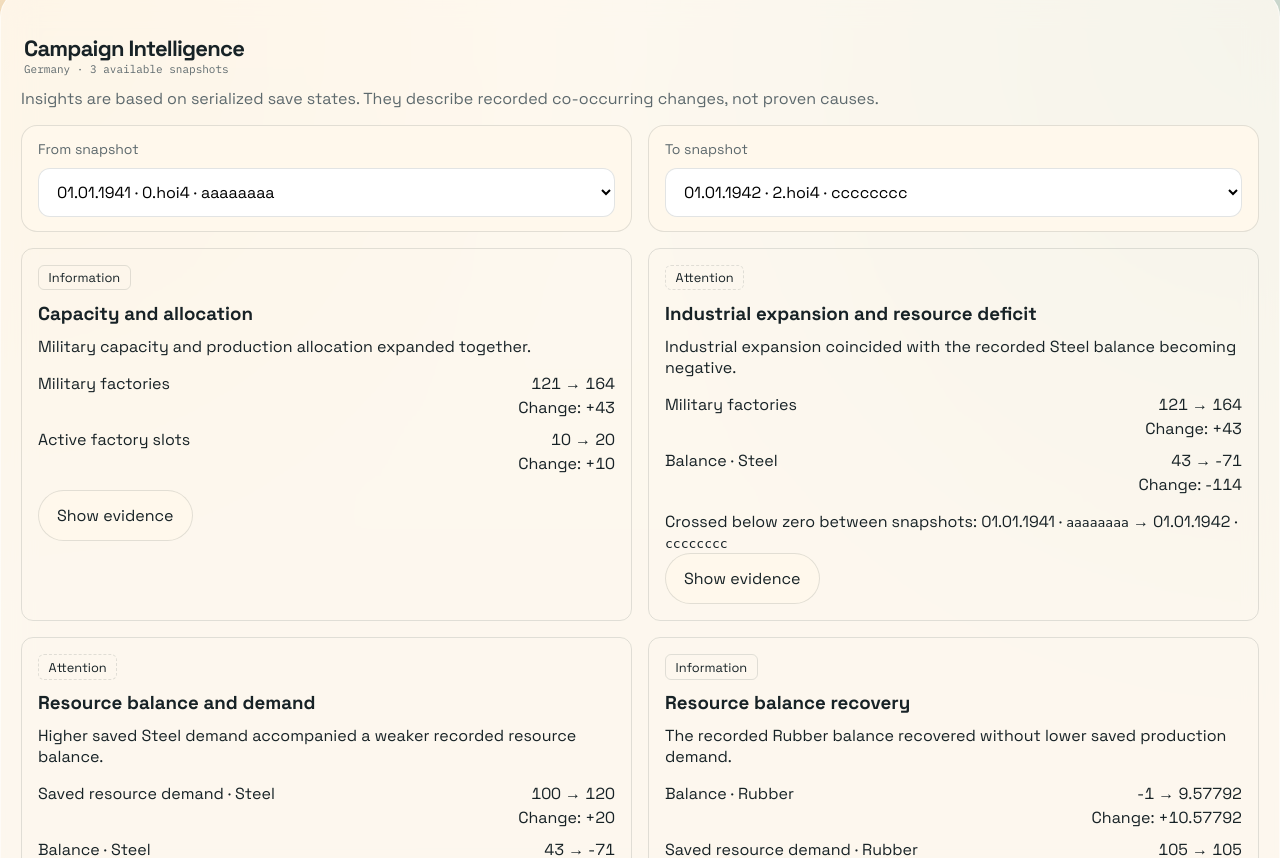
Test case: Campaign Intelligence frontend › evidence expansion is accessible and exposes exact values and source snapshots
Click the button "Show evidence" below "Capacity and allocation" at (115, 516), box [38,490,193,541]
(page scrolled)
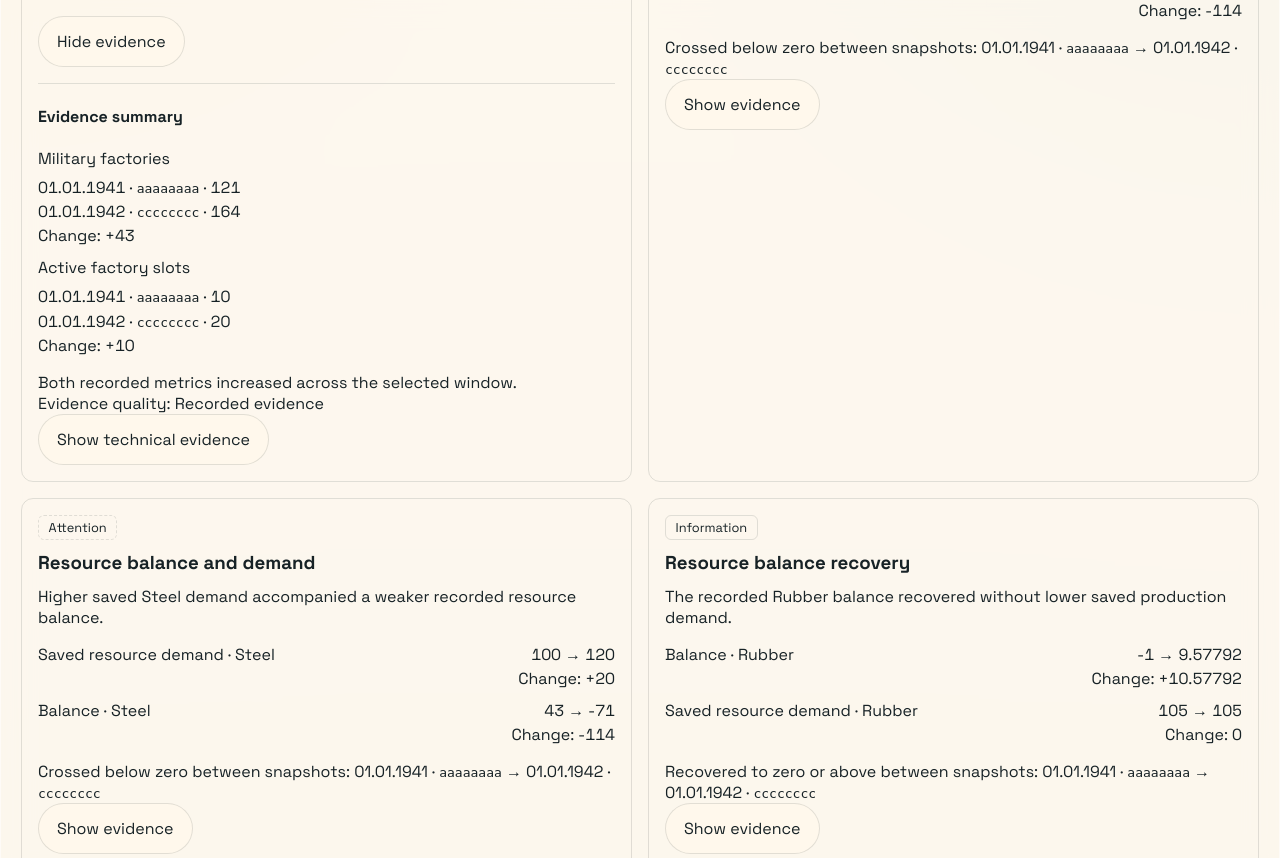
Expected: the button "Hide evidence" is expanded, [38,16,185,67]
Click the button "Show technical evidence" at (154, 439), box [38,414,269,465]
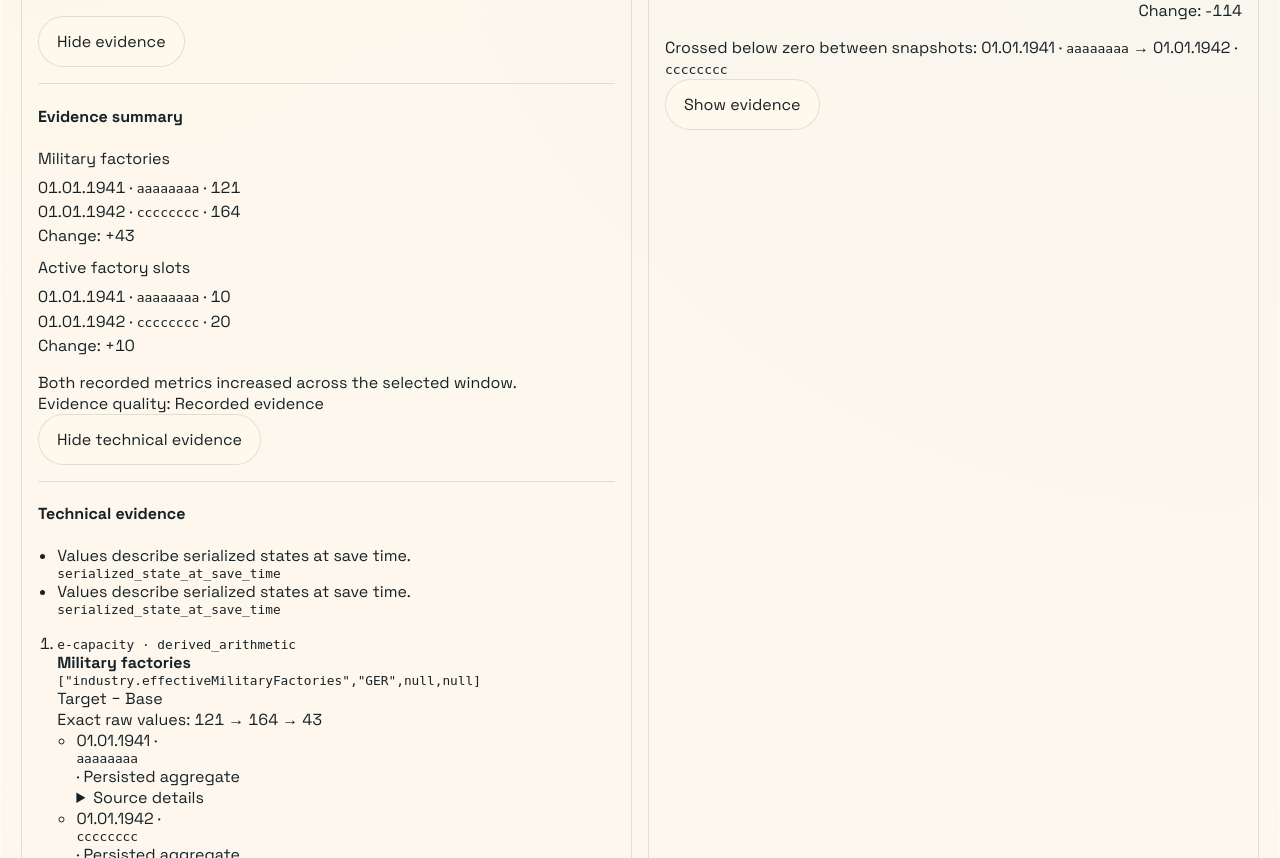
Expected: the text "01.01.1941" is shown, [38,177,126,198]
Expected: the text "121 → 164 → 43" is shown, [194,709,322,730]
Click the button "Hide evidence" at (111, 42), box [38,16,185,67]
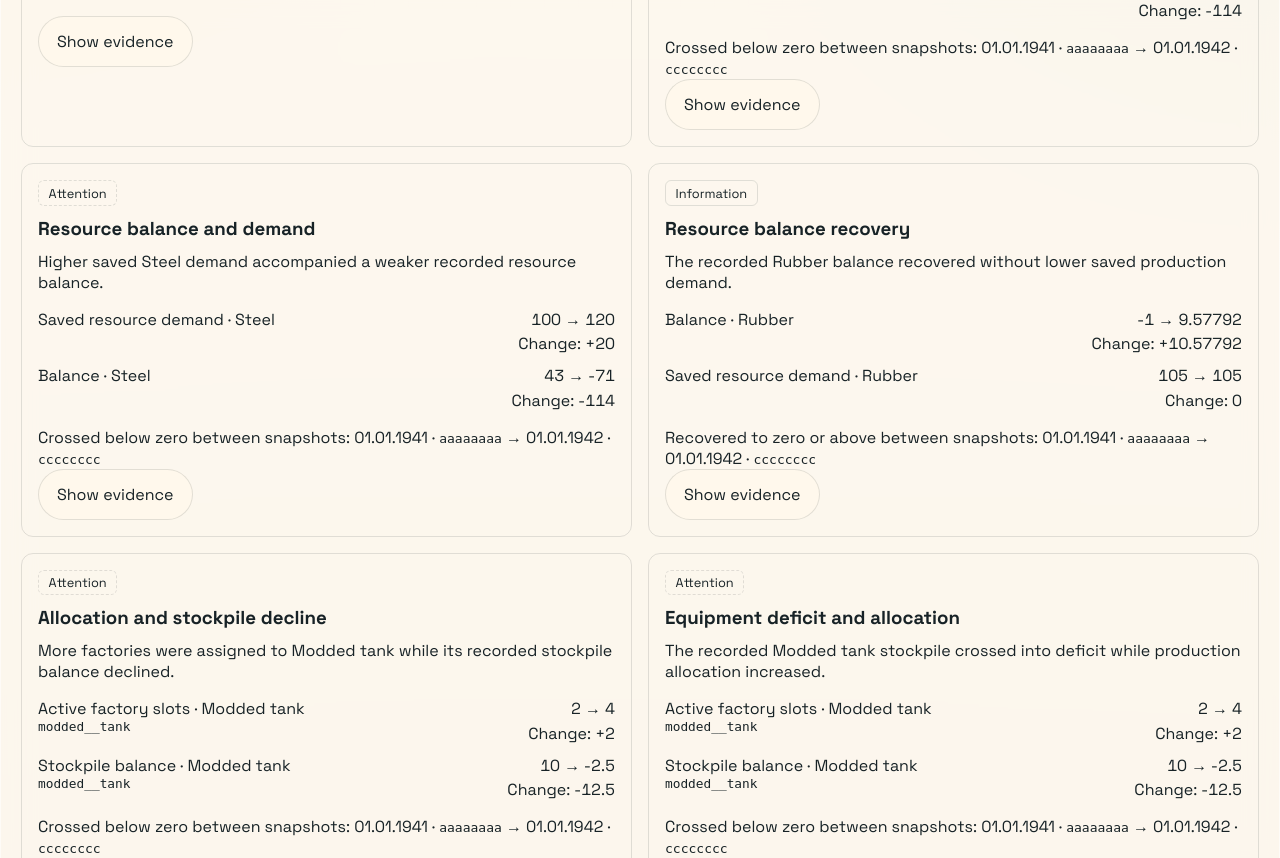
Expected: the button "Show evidence" below "Capacity and allocation" is collapsed, [38,16,193,67]
